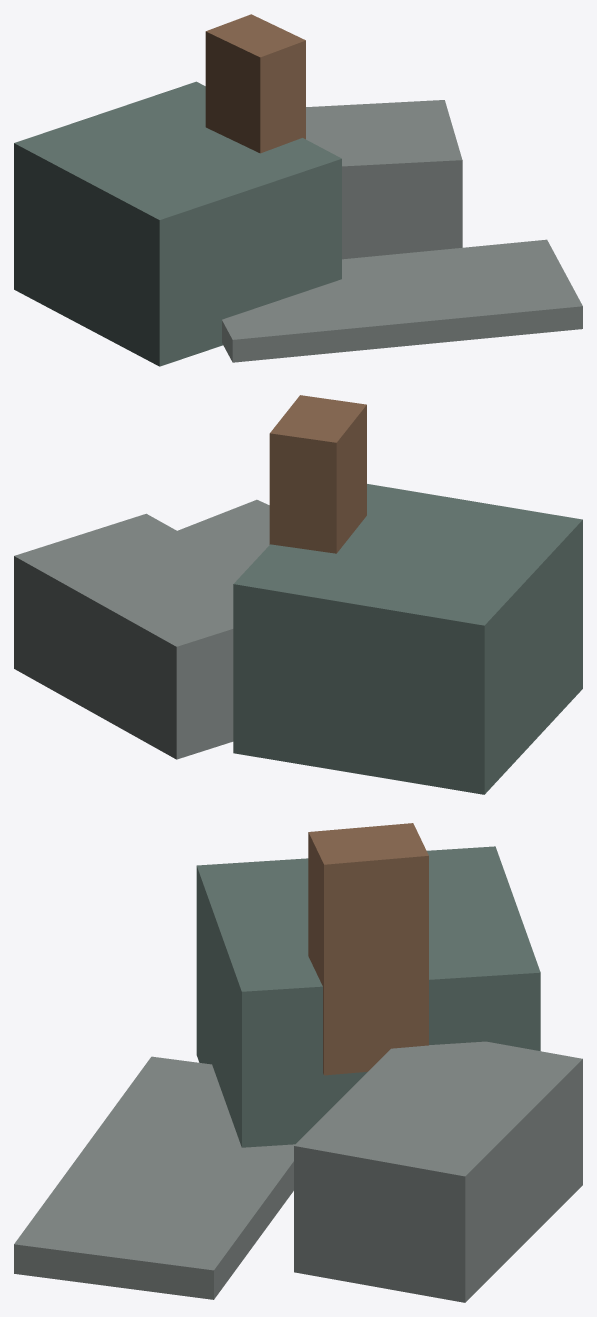
File: v2_scrap_casing.glb
The picture shows the model from 3 angles, top to bottom: view 1: azimuth 30°, elevation 25°; view 2: azimuth 150°, elevation 25°; view 3: azimuth 270°, elevation 25°; orthographic projection. The views are drawn at different scales.
Parts seen in each view (by area): view 1: Cube.020; view 2: Cube.020; view 3: Cube.020.
Part boxes in pixels (left/top/right/bottom): Cube.020: left=14, top=14, right=582, bottom=366; Cube.020: left=14, top=395, right=582, bottom=794; Cube.020: left=14, top=823, right=582, bottom=1302.
Size of the model in its own units: 1.12 by 0.6131 by 1.
